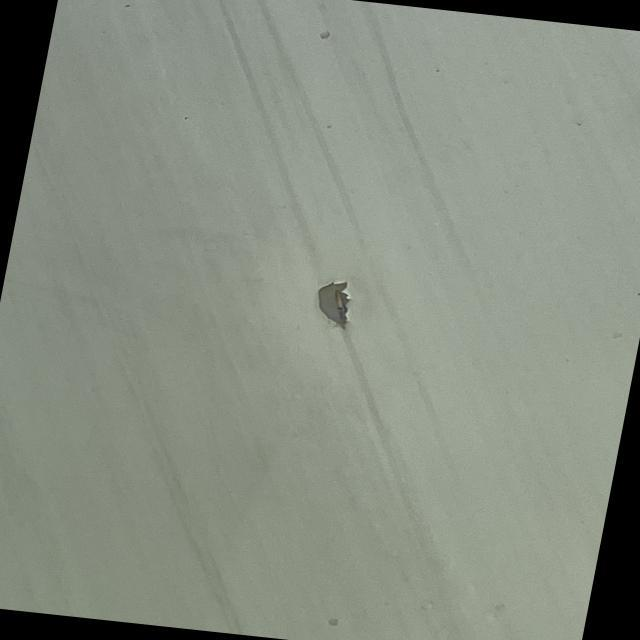crack: (306, 276, 384, 339)
